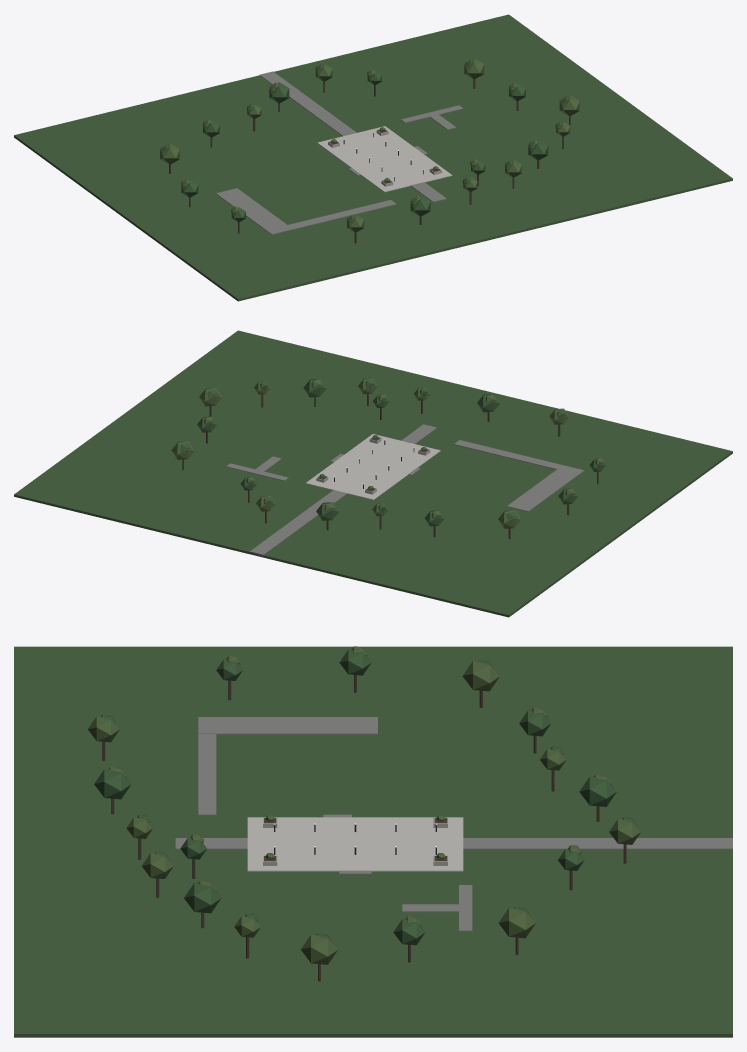
Rendered from campus_ground_LOD1.glb.
3 renders of one model, top to bottom at view 1: azimuth 30°, elevation 25°; view 2: azimuth 150°, elevation 25°; view 3: azimuth 270°, elevation 25°, orthographic. The views are drawn at different scales.
Visible parts, largest first — view 1: Lawn_LOD1, Trees_LOD1, Plaza_LOD1, Paths_LOD1; view 2: Lawn_LOD1, Trees_LOD1, Plaza_LOD1, Paths_LOD1; view 3: Lawn_LOD1, Trees_LOD1, Plaza_LOD1, Paths_LOD1, Planters_LOD1.
Part boxes in pixels (bbox=[...]): Lawn_LOD1: bbox=[14, 14, 732, 301]; Trees_LOD1: bbox=[160, 58, 579, 243]; Plaza_LOD1: bbox=[317, 126, 452, 192]; Paths_LOD1: bbox=[216, 71, 463, 234]; Lawn_LOD1: bbox=[14, 330, 732, 617]; Trees_LOD1: bbox=[171, 378, 605, 539]; Plaza_LOD1: bbox=[305, 434, 440, 499]; Paths_LOD1: bbox=[226, 424, 584, 557]; Lawn_LOD1: bbox=[14, 646, 732, 1037]; Trees_LOD1: bbox=[87, 646, 640, 981]; Plaza_LOD1: bbox=[247, 817, 463, 871]; Paths_LOD1: bbox=[175, 717, 732, 931]; Planters_LOD1: bbox=[263, 815, 447, 865].
Bounding box in the file's own units: 102 × 5.91 × 80.
